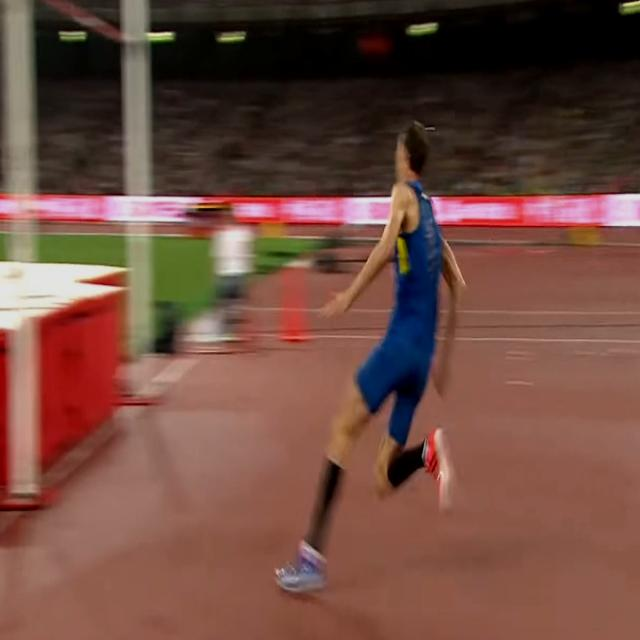run: (273, 120, 467, 598)
